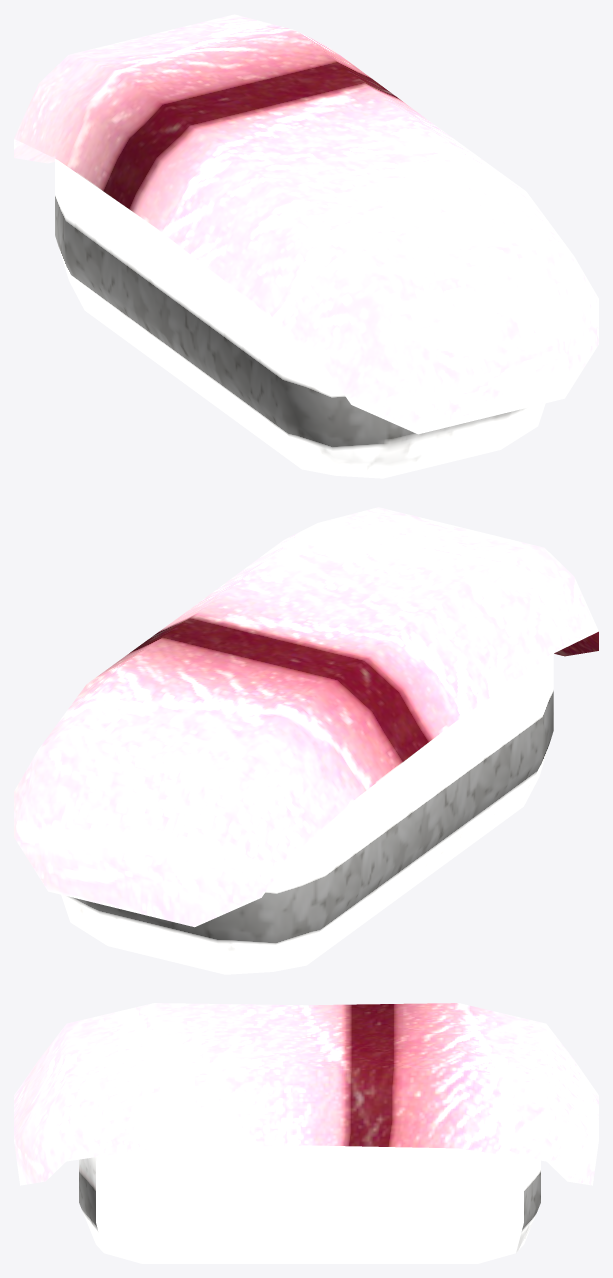
File: SM_Tuna_02.fbx
The picture shows the model from 3 angles, top to bottom: view 1: azimuth 30°, elevation 25°; view 2: azimuth 150°, elevation 25°; view 3: azimuth 270°, elevation 25°; orthographic projection. The views are drawn at different scales.
Visible parts, largest first — view 1: SM_Tuna_02_LOD0; view 2: SM_Tuna_02_LOD0; view 3: SM_Tuna_02_LOD0.
Boxes of the visible parts, x1=… form: SM_Tuna_02_LOD0: x1=14, y1=14, x2=598, y2=478; SM_Tuna_02_LOD0: x1=14, y1=507, x2=598, y2=974; SM_Tuna_02_LOD0: x1=14, y1=1003, x2=598, y2=1263.
Bounding box in the file's own units: 3.48 × 7.6 × 2.89.
